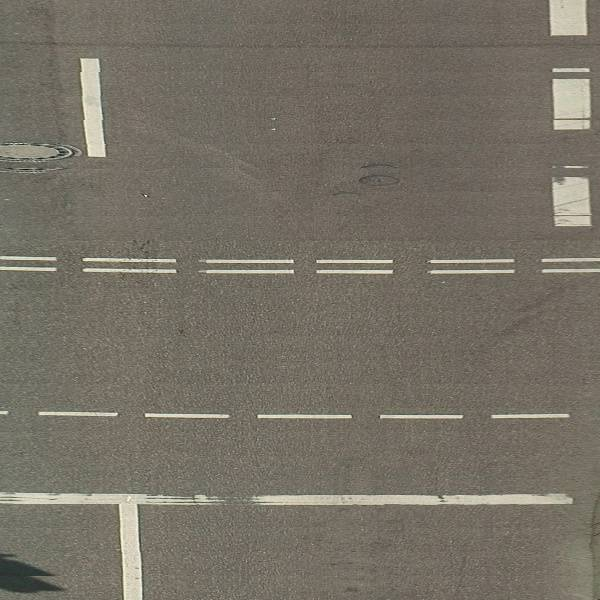road_damage: (330, 155, 405, 215)
